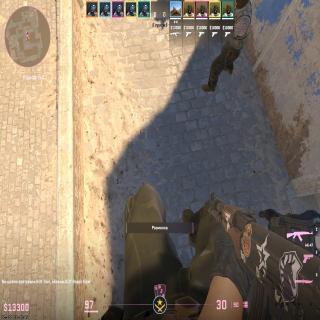CT-Body: (262, 208, 320, 238)
T-Body: (225, 0, 252, 94)
T-Head: (235, 0, 248, 10)
